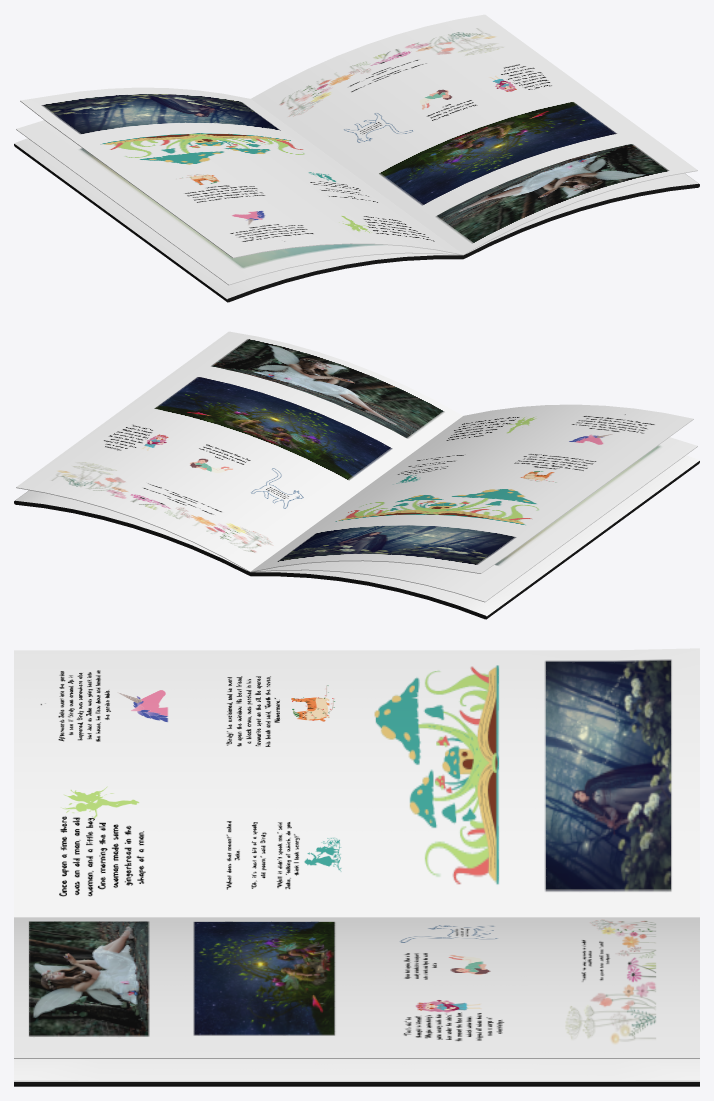
The model's file is Open book.fbx.
3 views of the same model, one above another, from view 1: azimuth 30°, elevation 25°; view 2: azimuth 150°, elevation 25°; view 3: azimuth 270°, elevation 25° (orthographic). The views are drawn at different scales.
Parts seen in each view (by area): view 1: Open book; view 2: Open book; view 3: Open book.
Part boxes in pixels (x1,y1,x2,y2): Open book: [14, 14, 699, 302]; Open book: [14, 331, 699, 619]; Open book: [14, 648, 699, 1086].
Size of the model in its own units: 37.74 by 4.5 by 29.43.
1 material, 1 textured.
